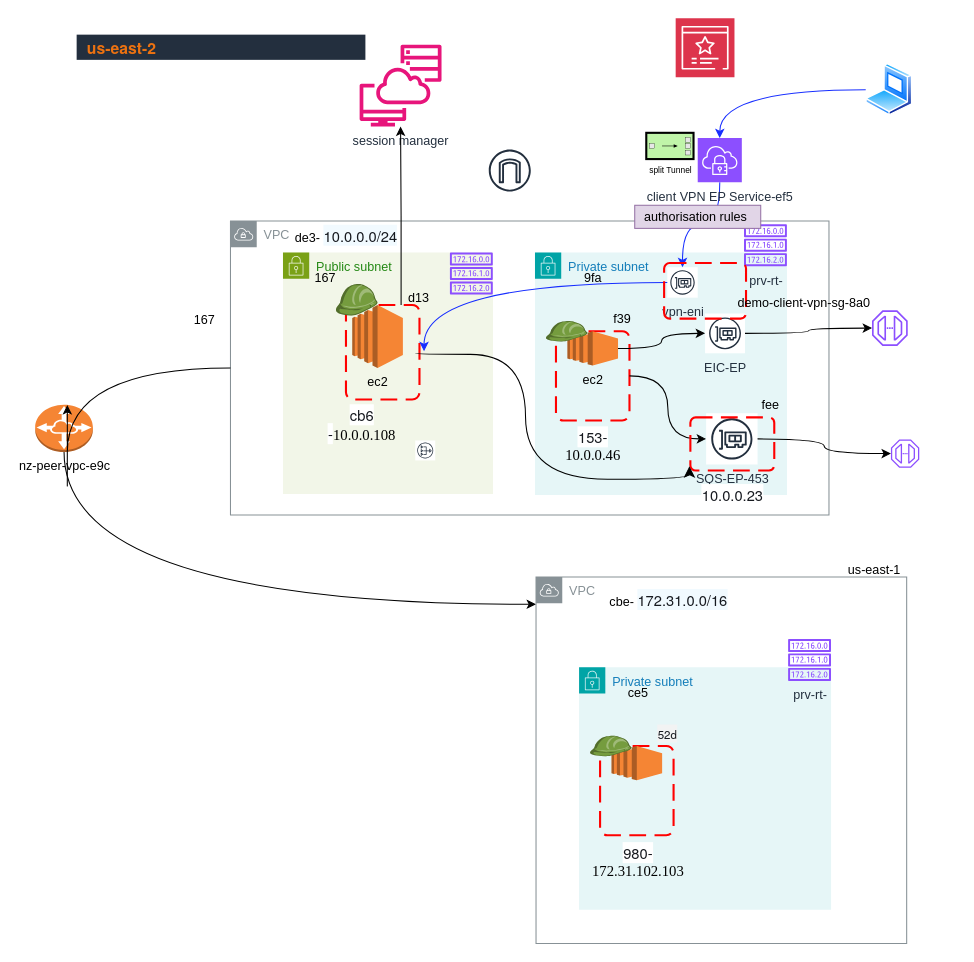
This 974x962 diagram has some shape labels left out. Here are the shapes that lost their labels. From the top down, the centre of each, then its label:
At (x=704, y=47): "ACM".
At (x=888, y=89): "machine client 10.10.0.0/16".
At (x=509, y=170): "Internet gateway".
At (x=470, y=273): "pb-rt-".
At (x=889, y=327): "EIC-EP-SVC".
At (x=424, y=449): "nz-natgw".
At (x=904, y=453): "SQS-EP-SVC-0eb".
At (x=636, y=762): "peer-ec2".
